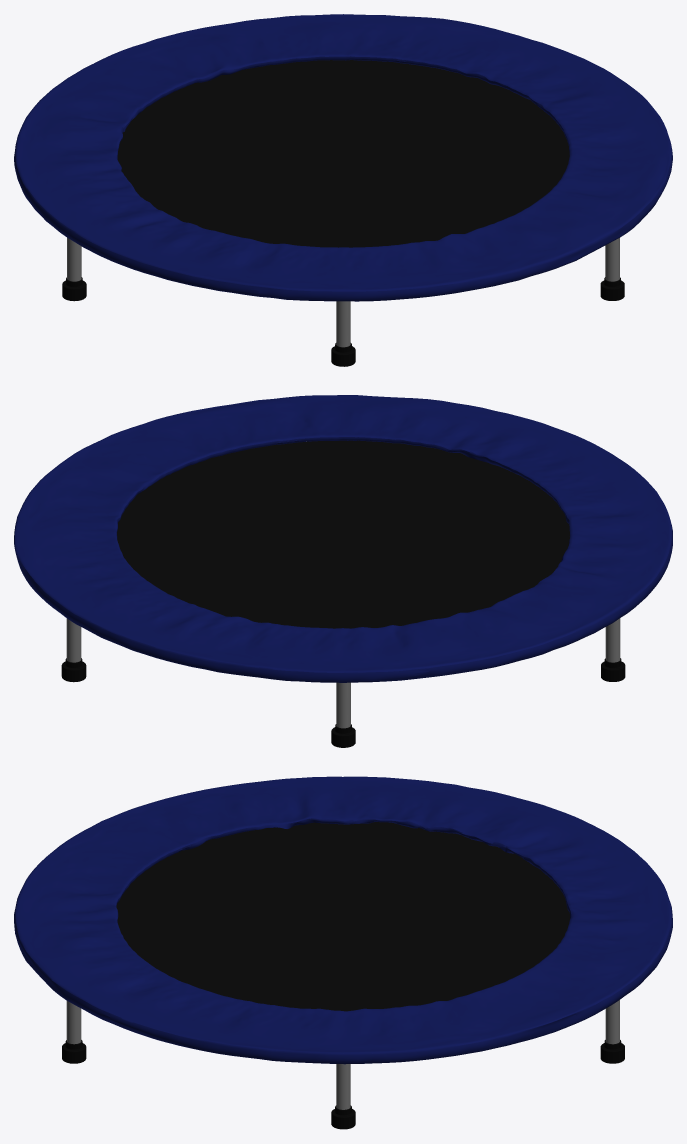
Rendered from trampoline.FBX.
3 views of the same model, one above another, from view 1: azimuth 30°, elevation 25°; view 2: azimuth 150°, elevation 25°; view 3: azimuth 270°, elevation 25° (orthographic).
Parts seen in each view (by area): view 1: Arch27_066, Arch27_062, Arch27_063, Arch27_012, Arch27_065; view 2: Arch27_066, Arch27_062, Arch27_068, Arch27_010, Arch27_065; view 3: Arch27_066, Arch27_062, Arch27_014, Arch27_012, Arch27_010.
Boxes of the visible parts, x1,y1,x2,y2 form: Arch27_066: (14, 14, 672, 301); Arch27_062: (117, 60, 569, 247); Arch27_063: (336, 301, 350, 347); Arch27_012: (605, 238, 619, 281); Arch27_065: (67, 237, 81, 281); Arch27_066: (14, 395, 672, 682); Arch27_062: (117, 440, 569, 628); Arch27_068: (336, 682, 350, 728); Arch27_010: (66, 618, 81, 662); Arch27_065: (605, 618, 620, 662); Arch27_066: (14, 776, 672, 1064); Arch27_062: (116, 822, 569, 1011); Arch27_014: (336, 1064, 350, 1109); Arch27_012: (66, 1001, 81, 1044); Arch27_010: (605, 1000, 619, 1044).
Size of the model in its own units: 75.49 by 10.28 by 75.53.
